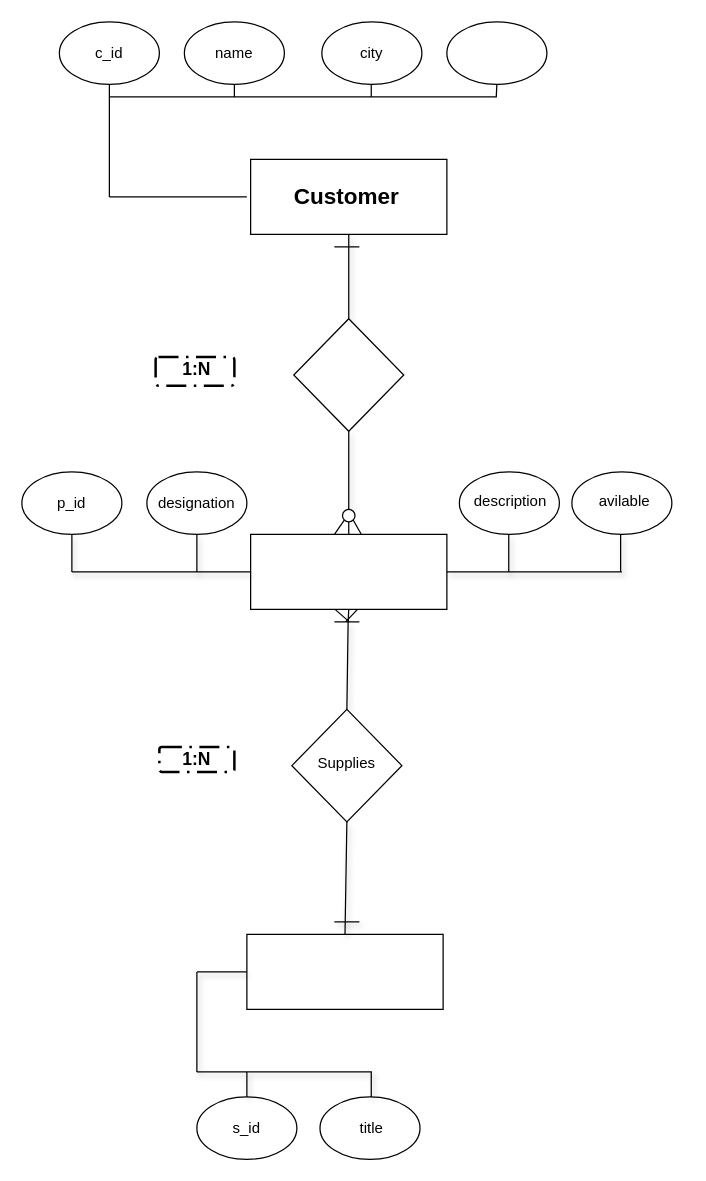
Some shapes in this 706 by 1181 pixel diagram are drawn without their labels. Each missing label, with the centre of its shape:
Buys: (x=348, y=374)
contacts: (x=496, y=52)
Product: (x=348, y=571)
Supplier: (x=344, y=971)
